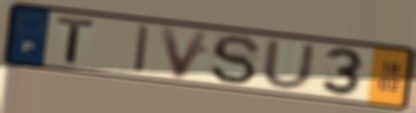3: (321, 45, 364, 98)
I: (132, 22, 153, 76)
S: (208, 33, 264, 87)
T: (54, 15, 98, 66)
U: (260, 38, 318, 92)
V: (156, 25, 213, 81)
